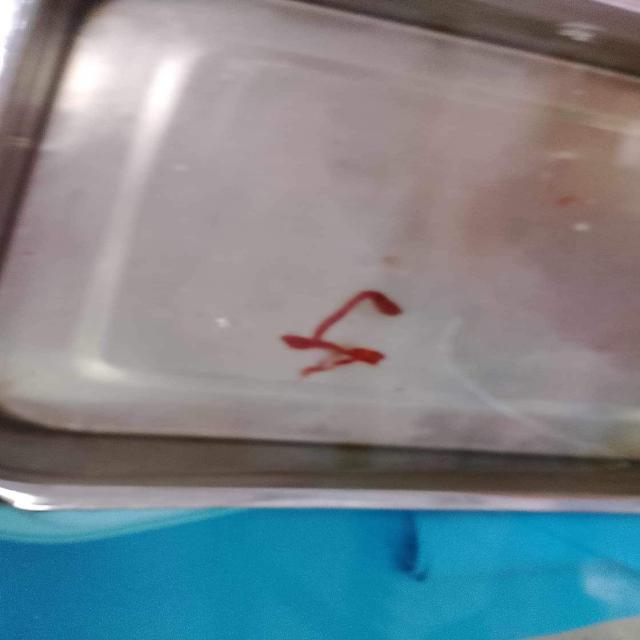General: (2, 504, 637, 638)
Infectious: (2, 1, 638, 464)
Sharps: (277, 287, 407, 380)
